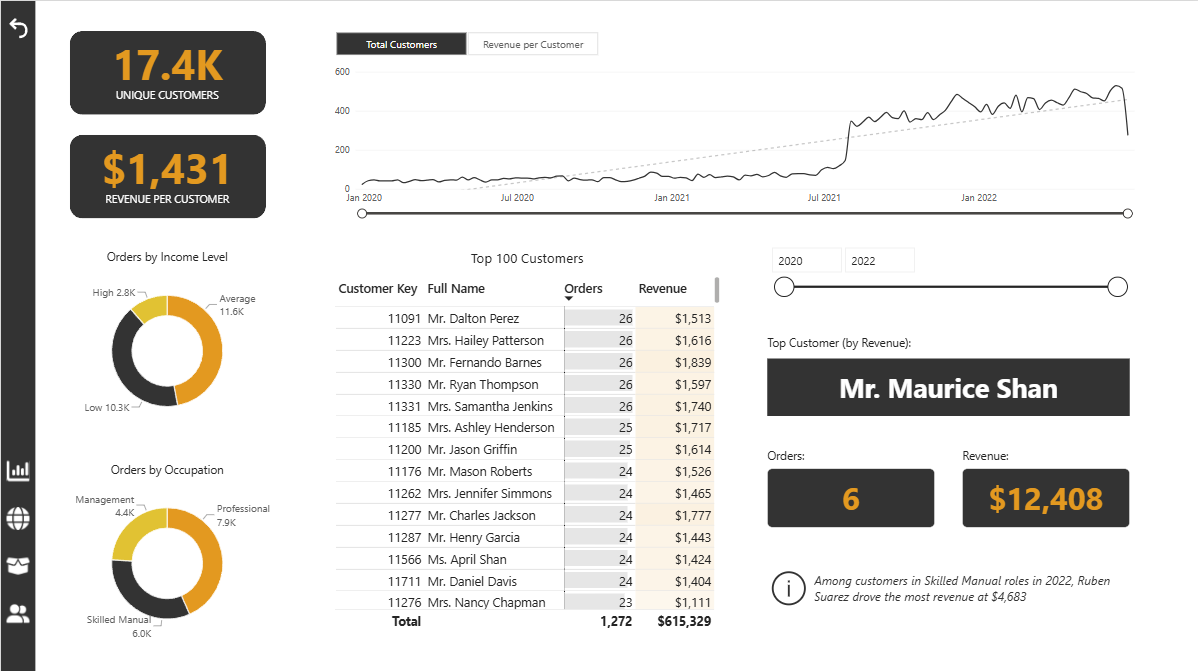

Layout of this report page (visuals, bound fields, positions):
{"tool":"powerbi","page":{"name":"Customer Detail","canvas":[1920,1080],"ordinal":3},"visuals":[{"type":"shape","box":[0,0,55,1080],"z":0},{"type":"actionButton","box":[0,723.9,54.3,56.1],"z":0,"group":"g5"},{"type":"shape","box":[109.3,48,314,134],"z":1000},{"type":"actionButton","box":[0,799.9,54.3,56.1],"z":1000,"group":"g5"},{"type":"shape","box":[109.3,213.6,314,134],"z":2000},{"type":"actionButton","box":[0,876,54.3,56.1],"z":2000,"group":"g5"},{"type":"card","fields":{"Values":["Measure Table.Total Customers"]},"box":[64.3,34,404,150],"z":3000},{"type":"actionButton","box":[0,952,54,56],"z":3000,"group":"g5"},{"type":"card","fields":{"Values":["Measure Table.Average Revenue per Customer"]},"box":[64.3,199.6,404,150],"z":4000},{"type":"lineChart","title":"Weekly Customers","fields":{"Category":["Calendar Lookup.New Date Hierarchy.Year","Calendar Lookup.New Date Hierarchy.Start of Month","Calendar Lookup.New Date Hierarchy.Start of Week","Calendar Lookup.New Date Hierarchy.Date"],"Y":["Measure Table.Total Customers"]},"box":[518.3,88.3,1330,273.3],"z":5000},{"type":"donutChart","title":"Orders by Income Level","fields":{"Category":["Customer Lookup.Income Level"],"Y":["Measure Table.Total Orders"]},"box":[80,382,372,316],"z":6000},{"type":"donutChart","title":"Orders by Occupation","fields":{"Category":["Customer Lookup.Occupation"],"Y":["Measure Table.Total Orders"]},"box":[80,722,372,316],"z":7000},{"type":"tableEx","title":"Top 100 Customers","fields":{"Values":["Customer Lookup.CustomerKey","Customer Lookup.Full Name","Measure Table.Total Orders","Measure Table.Total Revenue"]},"box":[518,382,648,642],"z":8000},{"type":"slicer","fields":{"Values":["Calendar Lookup.Year"]},"box":[1226,390,580,94],"z":9000},{"type":"card","fields":{"Values":["Measure Table.Full Name (Customer Detail)"]},"box":[1226.2,572.2,580,92],"z":9000,"group":"g1"},{"type":"textbox","box":[1226.1,534.7,580.9,63.3],"z":10000,"group":"g1"},{"type":"actionButton","box":[1226,894,580,92],"z":10000},{"type":"group","id":"g1","title":"Group 1","box":[1226.1,534.7,580.9,129.5],"z":11000},{"type":"textbox","box":[1225.4,714.9,291.4,85.1],"z":11000,"group":"g2"},{"type":"group","id":"g2","title":"Group 2","box":[1225.4,714.9,291.4,128.5],"z":12000,"group":"g3"},{"type":"group","id":"g3","title":"Group 4","box":[1225.4,714.9,628,128.5],"z":12000},{"type":"textbox","box":[1538.5,714.9,314.9,85.1],"z":12000,"group":"g4"},{"type":"actionButton","box":[0,22,56,40],"z":13000},{"type":"group","id":"g4","title":"Group 3","box":[1538.3,714.9,315.1,128.4],"z":13000,"group":"g3"},{"type":"card","fields":{"Values":["Measure Table.Total Orders (Customer Detail)"]},"box":[1225.4,749.3,267.8,94.1],"z":13000,"group":"g2"},{"type":"slicer","fields":{"Values":["Customer Metric Selection.Customer Metric Selection"]},"box":[515,48.3,458.3,40],"z":14000},{"type":"card","fields":{"Values":["Measure Table.Total Revenue (Customer Detail)"]},"box":[1538.3,749.3,268,94],"z":14000,"group":"g4"},{"type":"group","id":"g5","title":"Navigation Buttons","box":[0,723.9,54.3,284.1],"z":15000}]}

Visuals, with their boxes on the page's 1920x1080 design canvas (x1, y1, x2, y2). These are canvas units, not pixel positions in the 1198x671 screenshot, which may show the page scaled, cropped or inside an application window:
shape: 0, 0, 55, 1080
actionButton: 0, 724, 54, 780
shape: 109, 48, 423, 182
actionButton: 0, 800, 54, 856
shape: 109, 214, 423, 348
actionButton: 0, 876, 54, 932
card - Measure Table.Total Customers: 64, 34, 468, 184
actionButton: 0, 952, 54, 1008
card - Measure Table.Average Revenue per Customer: 64, 200, 468, 350
"Weekly Customers" lineChart: 518, 88, 1848, 362
"Orders by Income Level" donutChart: 80, 382, 452, 698
"Orders by Occupation" donutChart: 80, 722, 452, 1038
"Top 100 Customers" tableEx: 518, 382, 1166, 1024
slicer - Calendar Lookup.Year: 1226, 390, 1806, 484
card - Measure Table.Full Name (Customer Detail): 1226, 572, 1806, 664
textbox: 1226, 535, 1807, 598
actionButton: 1226, 894, 1806, 986
"Group 1" group: 1226, 535, 1807, 664
textbox: 1225, 715, 1517, 800
"Group 2" group: 1225, 715, 1517, 843
"Group 4" group: 1225, 715, 1853, 843
textbox: 1538, 715, 1853, 800
actionButton: 0, 22, 56, 62
"Group 3" group: 1538, 715, 1853, 843
card - Measure Table.Total Orders (Customer Detail): 1225, 749, 1493, 843
slicer - Customer Metric Selection.Customer Metric Selection: 515, 48, 973, 88
card - Measure Table.Total Revenue (Customer Detail): 1538, 749, 1806, 843
"Navigation Buttons" group: 0, 724, 54, 1008
